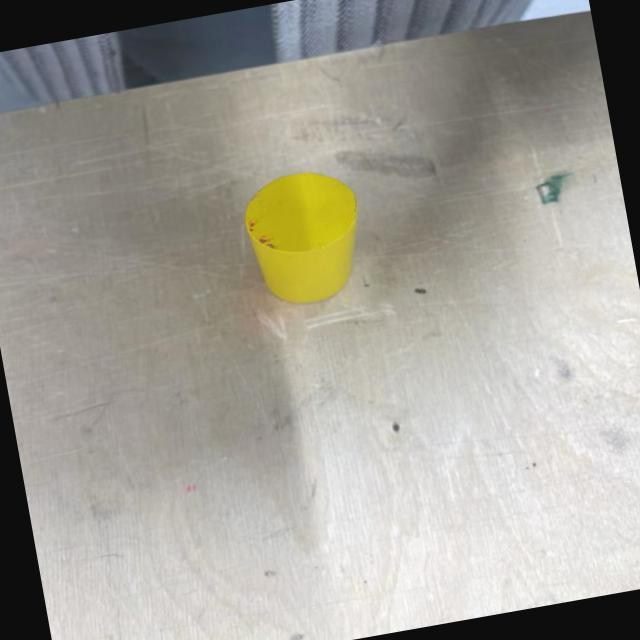yellow_cylinder: (236, 162, 374, 312)
